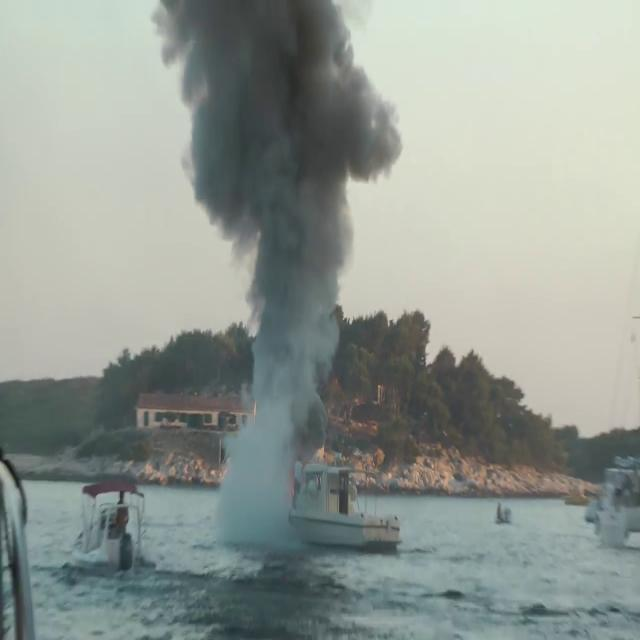Smoke: (155, 1, 405, 450)
